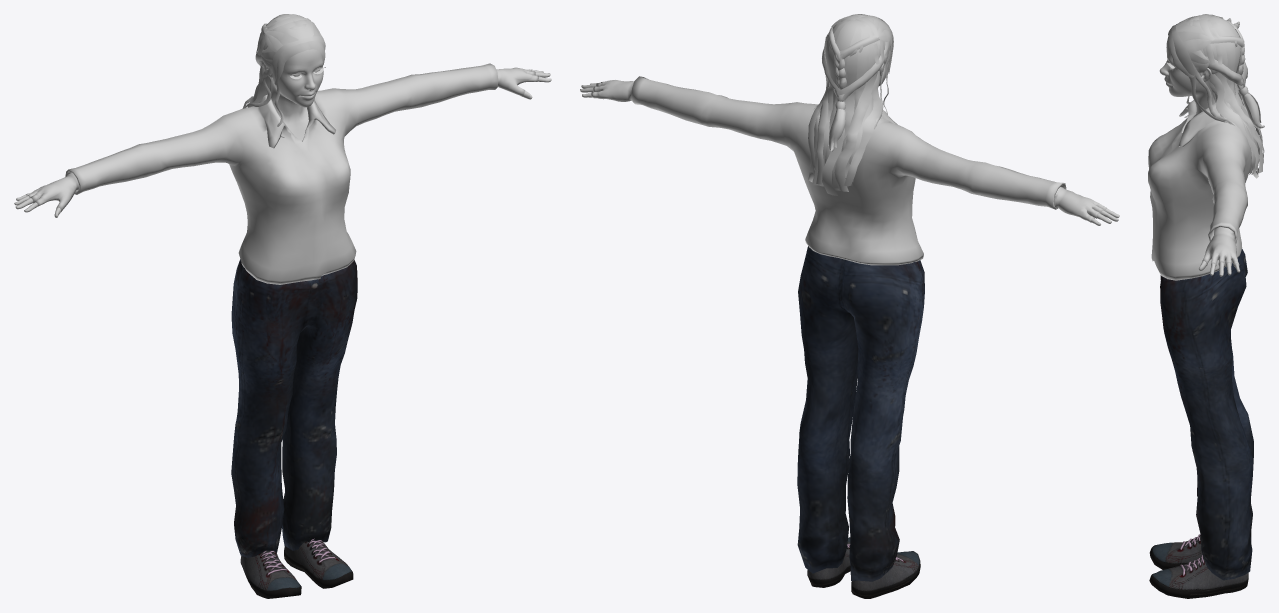
The model's file is lumberjack woman playable.obj.
3 views of the same model, side by side, from view 1: azimuth 30°, elevation 25°; view 2: azimuth 150°, elevation 25°; view 3: azimuth 270°, elevation 25° (orthographic).
Parts seen in each view (by area): view 1: Tops, Bottoms, Shoes, Hair, Body, Gloves; view 2: Bottoms, Tops, Hair, Shoes, Gloves; view 3: Bottoms, Tops, Hair, Shoes, Body, Gloves.
Part boxes in pixels (x1,y1,x2,y2): Tops: [65, 63, 498, 284]; Bottoms: [231, 259, 357, 557]; Shoes: [240, 538, 353, 598]; Hair: [242, 14, 325, 137]; Body: [14, 49, 551, 280]; Gloves: [26, 67, 538, 211]; Bottoms: [797, 246, 924, 581]; Tops: [631, 76, 1066, 265]; Hair: [808, 14, 893, 195]; Shoes: [807, 537, 920, 598]; Gloves: [591, 80, 1106, 222]; Bottoms: [1160, 249, 1253, 580]; Tops: [1148, 61, 1251, 280]; Hair: [1168, 14, 1264, 178]; Shoes: [1149, 534, 1248, 598]; Body: [1159, 17, 1240, 276]; Gloves: [1202, 20, 1239, 266].
Bounding box in the file's own units: 169 × 169 × 32.04.
